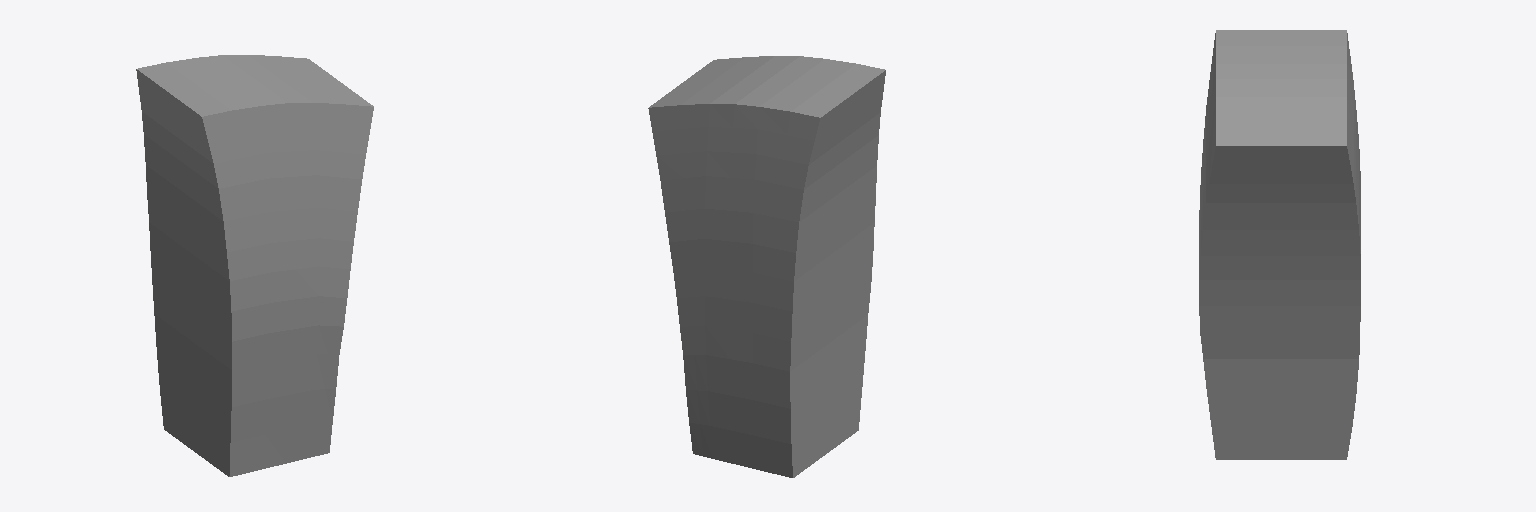
Rendered from WalkieTalkie.obj.
3 renders of one model, left to right at view 1: azimuth 30°, elevation 25°; view 2: azimuth 150°, elevation 25°; view 3: azimuth 270°, elevation 25°, orthographic.
Visible parts, largest first — view 1: Walkie_Talkie_Cube; view 2: Walkie_Talkie_Cube; view 3: Walkie_Talkie_Cube.
Part boxes in pixels (left/top/right/bottom): Walkie_Talkie_Cube: left=136, top=55, right=373, bottom=476; Walkie_Talkie_Cube: left=648, top=56, right=885, bottom=477; Walkie_Talkie_Cube: left=1199, top=30, right=1360, bottom=459.
Bounding box in the file's own units: 6.2 × 12.63 × 5.04.